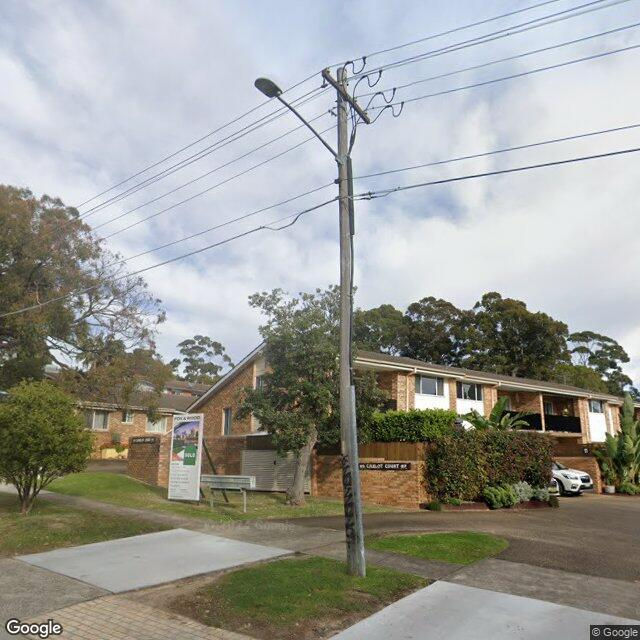crossarm: (321, 70, 372, 125)
streetlight: (254, 78, 342, 166)
timber-pole: (336, 67, 366, 578)
